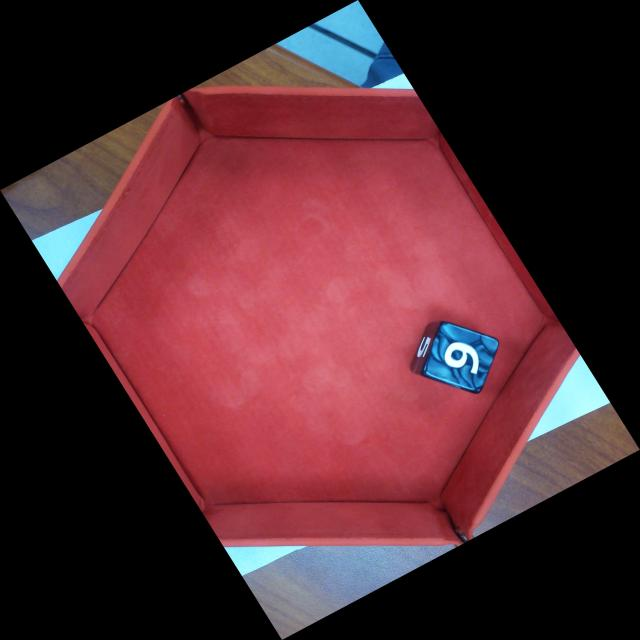dice: (422, 319, 502, 397)
